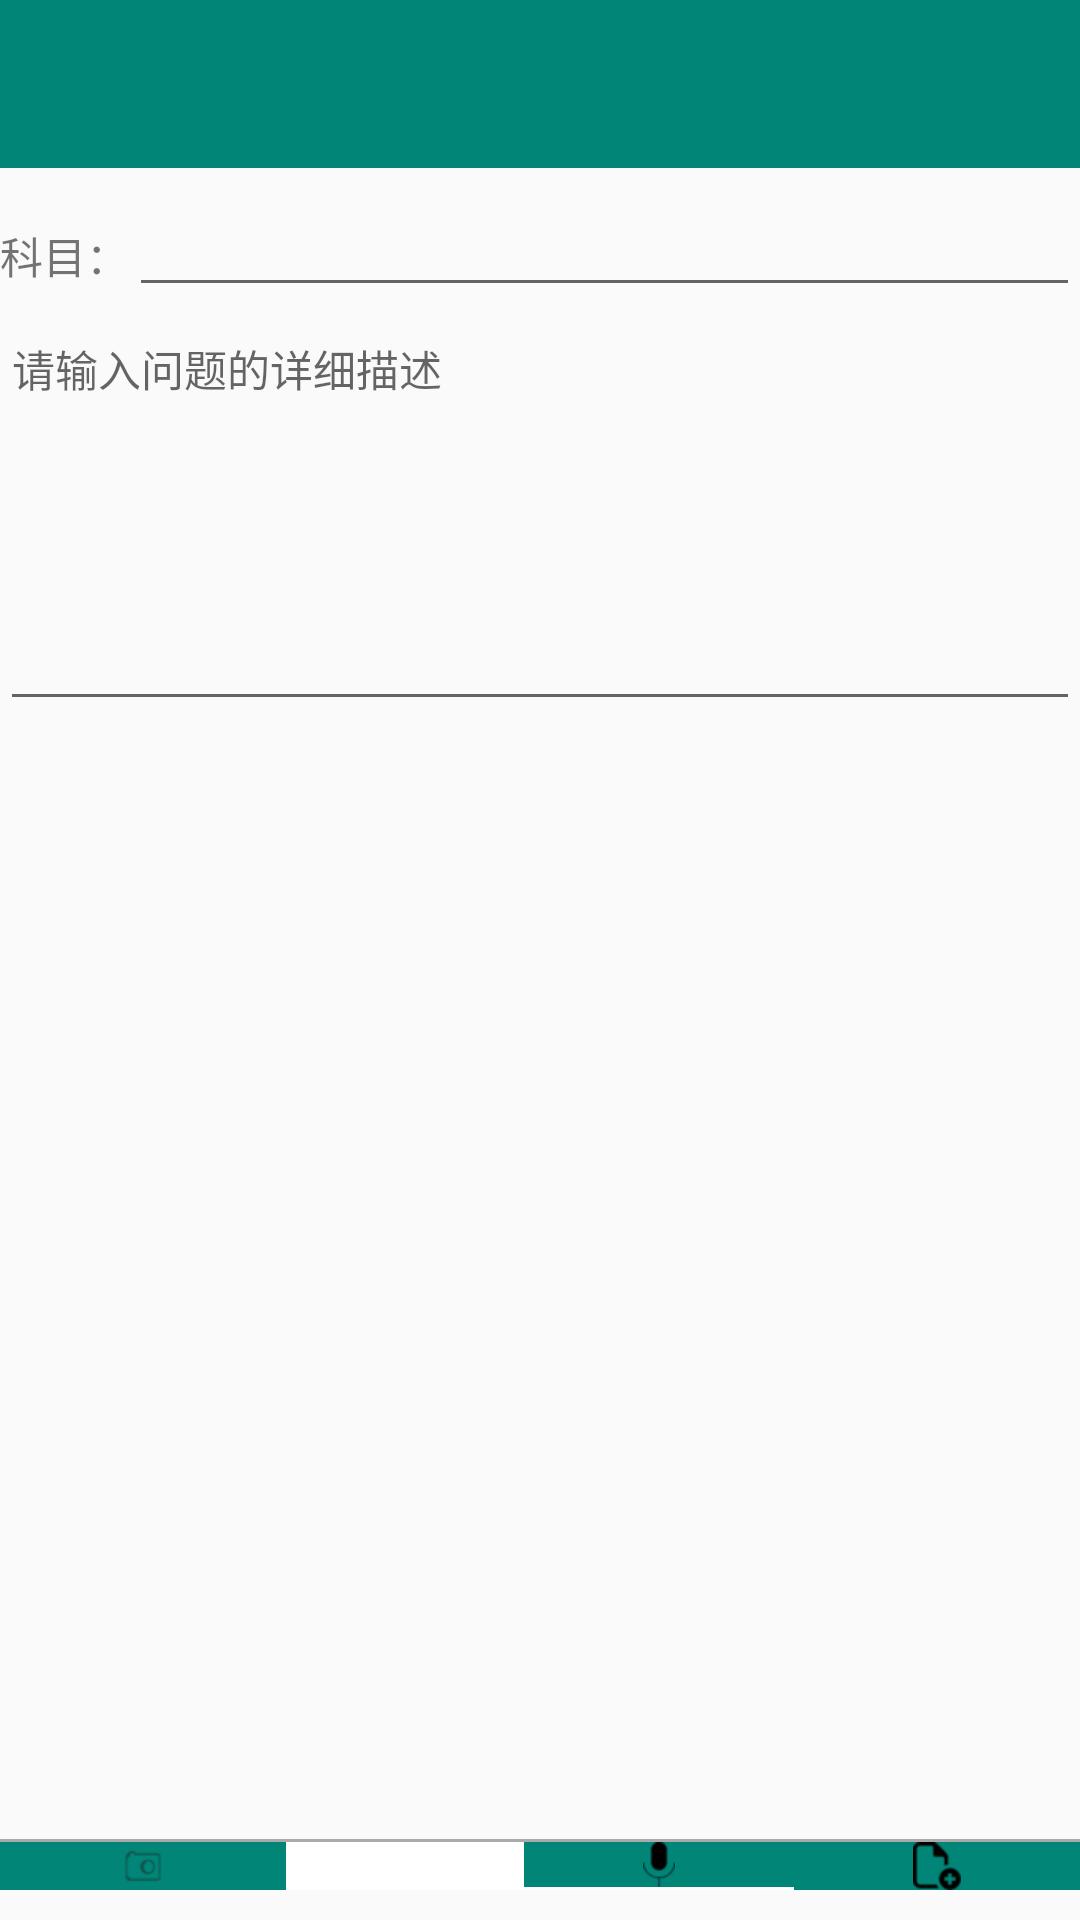

Named icons in this screenshot (1080w x 1920h) and their centers, (x,y):
camera: (143,1866)
soundrecord: (659,1864)
uploadfile: (937,1866)
